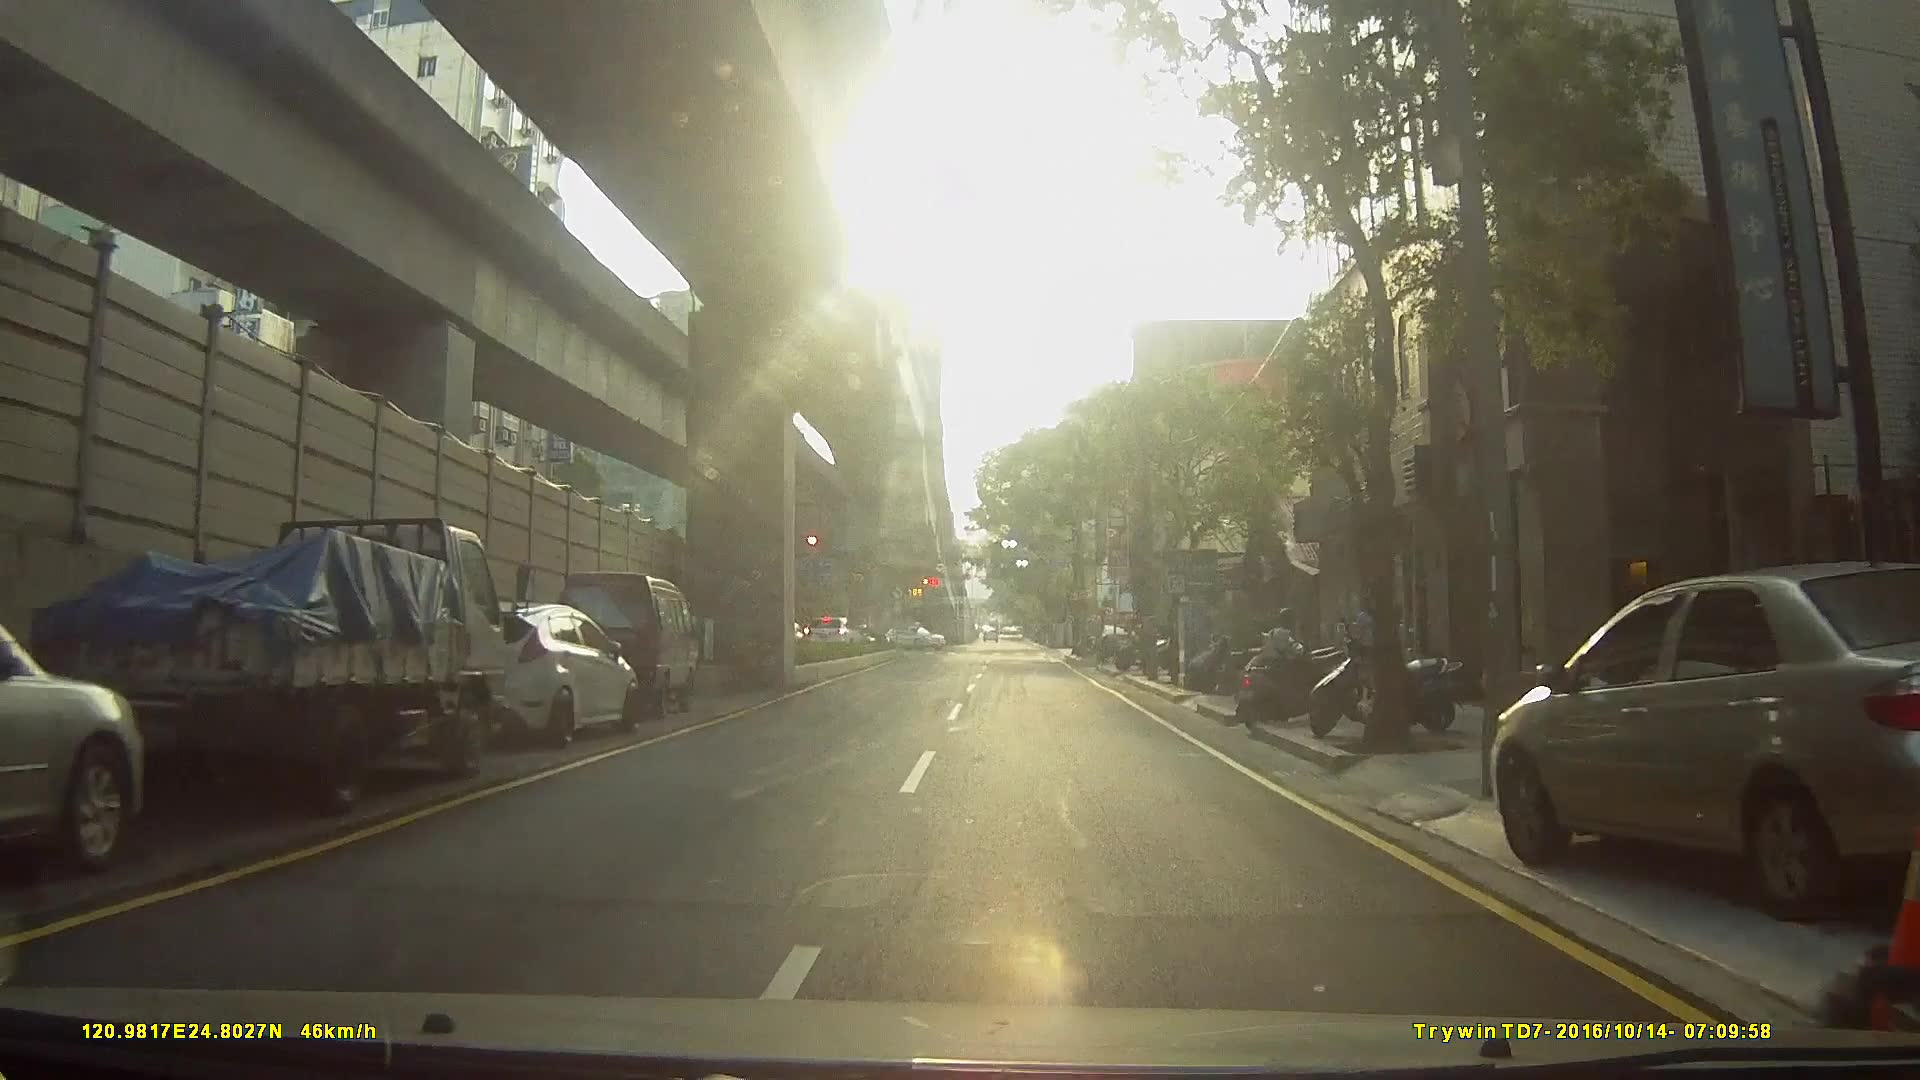rider: (1233, 610, 1346, 735)
vehicle: (1488, 539, 1920, 942), (27, 509, 551, 818), (1, 603, 161, 890), (414, 596, 635, 752), (541, 571, 693, 724), (797, 615, 860, 655), (1091, 624, 1137, 662), (882, 625, 943, 652)
